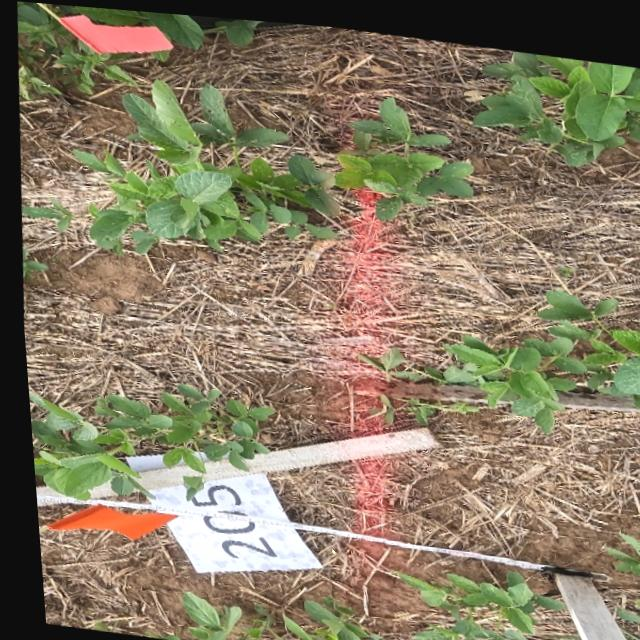soy_plant: (72, 78, 470, 250), (422, 280, 640, 423), (23, 381, 266, 497), (473, 42, 640, 156), (16, 1, 203, 97), (362, 388, 472, 419), (353, 342, 418, 375), (18, 200, 69, 231), (173, 589, 210, 625), (217, 15, 261, 40), (19, 248, 43, 278), (176, 473, 196, 498)
